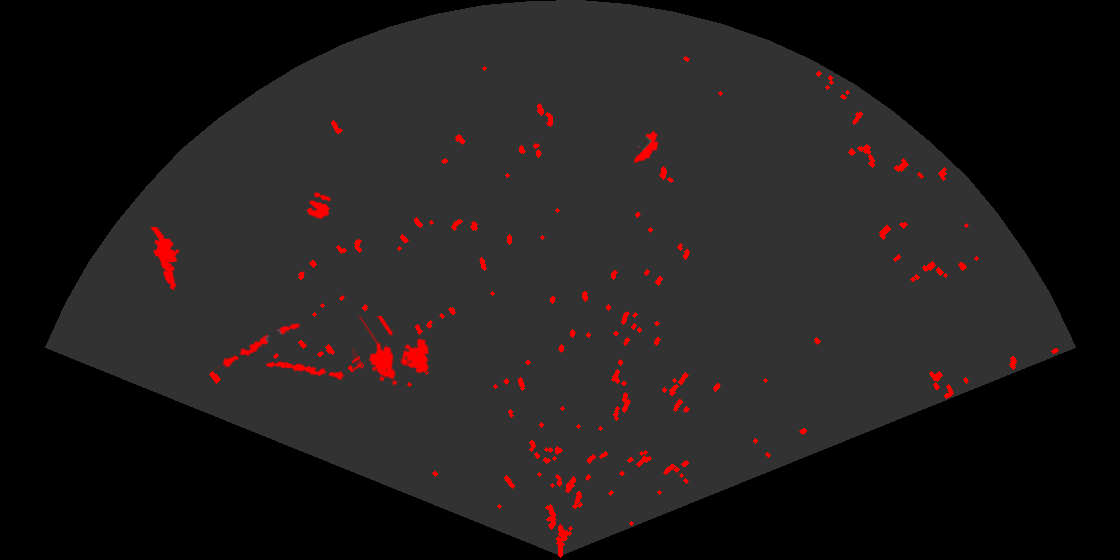AUV: (632, 129, 660, 165)
ball: (305, 191, 333, 221)
cage: (352, 316, 431, 387)
chain: (213, 322, 302, 373), (264, 360, 347, 381)
frogman: (149, 227, 181, 292)
